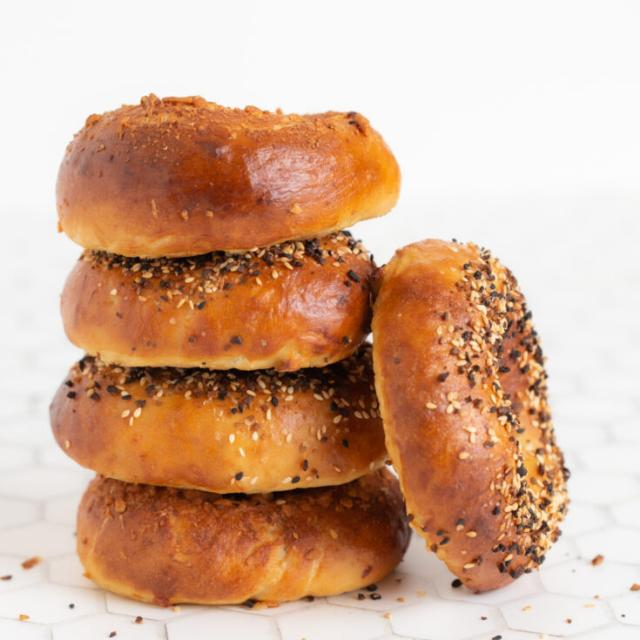Bagel: (372, 240, 569, 589), (56, 95, 399, 257), (51, 345, 388, 492), (76, 468, 411, 607), (61, 231, 375, 371)
